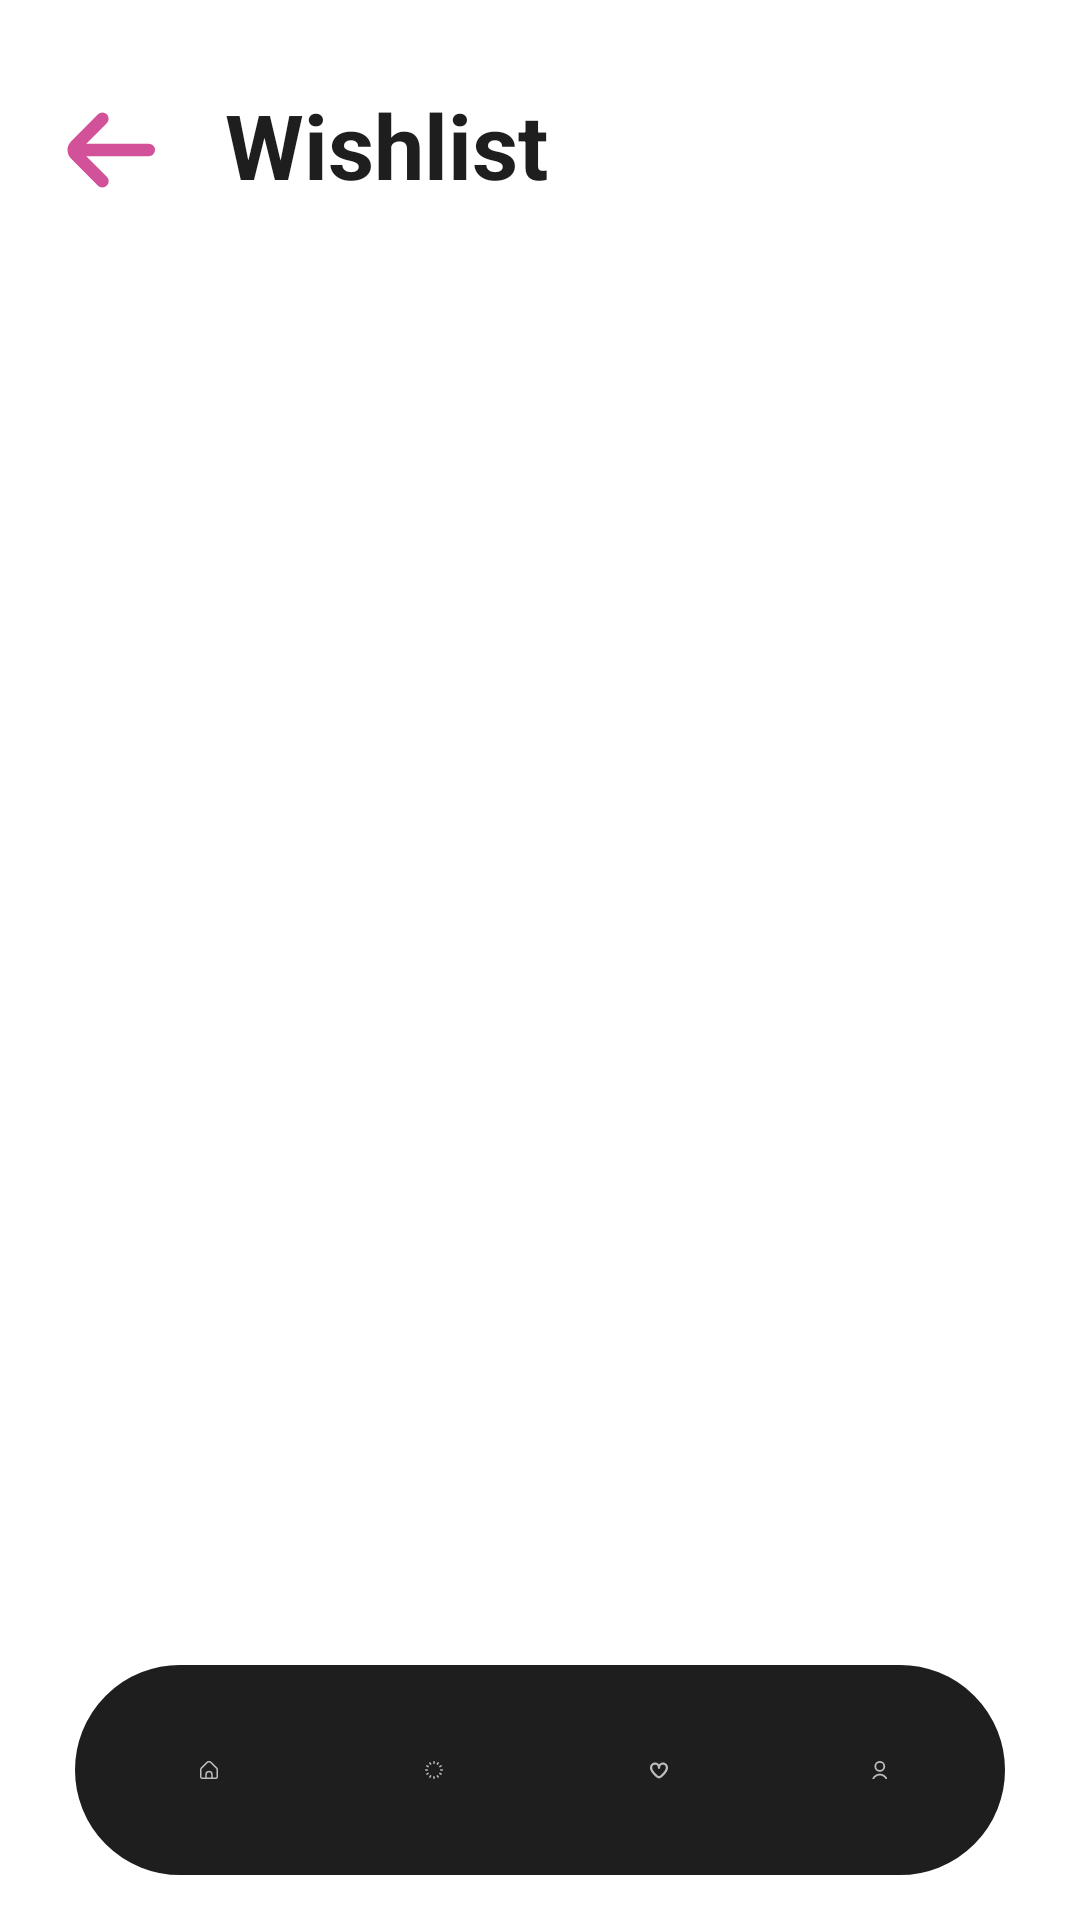

Icon bounding boxes for this 1080 × 1920 phone screenshot, format (x1, y1, x2, y2):
Go back: (67, 112, 155, 188)
